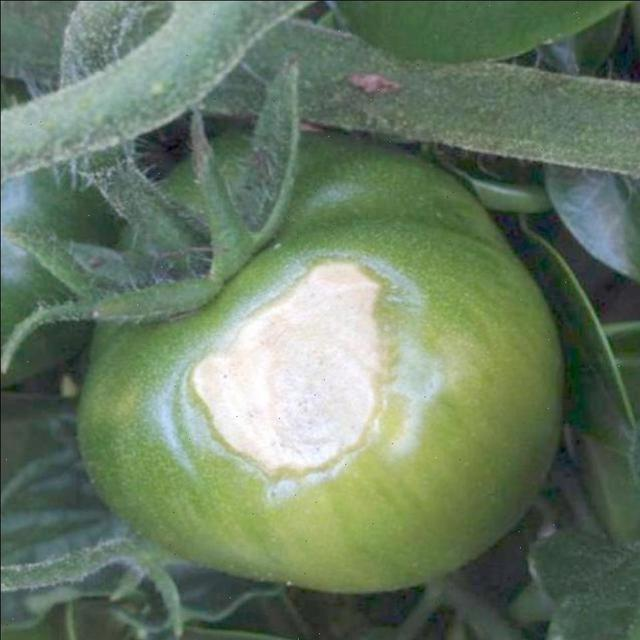Sunscald Fruit: (122, 170, 262, 327)
